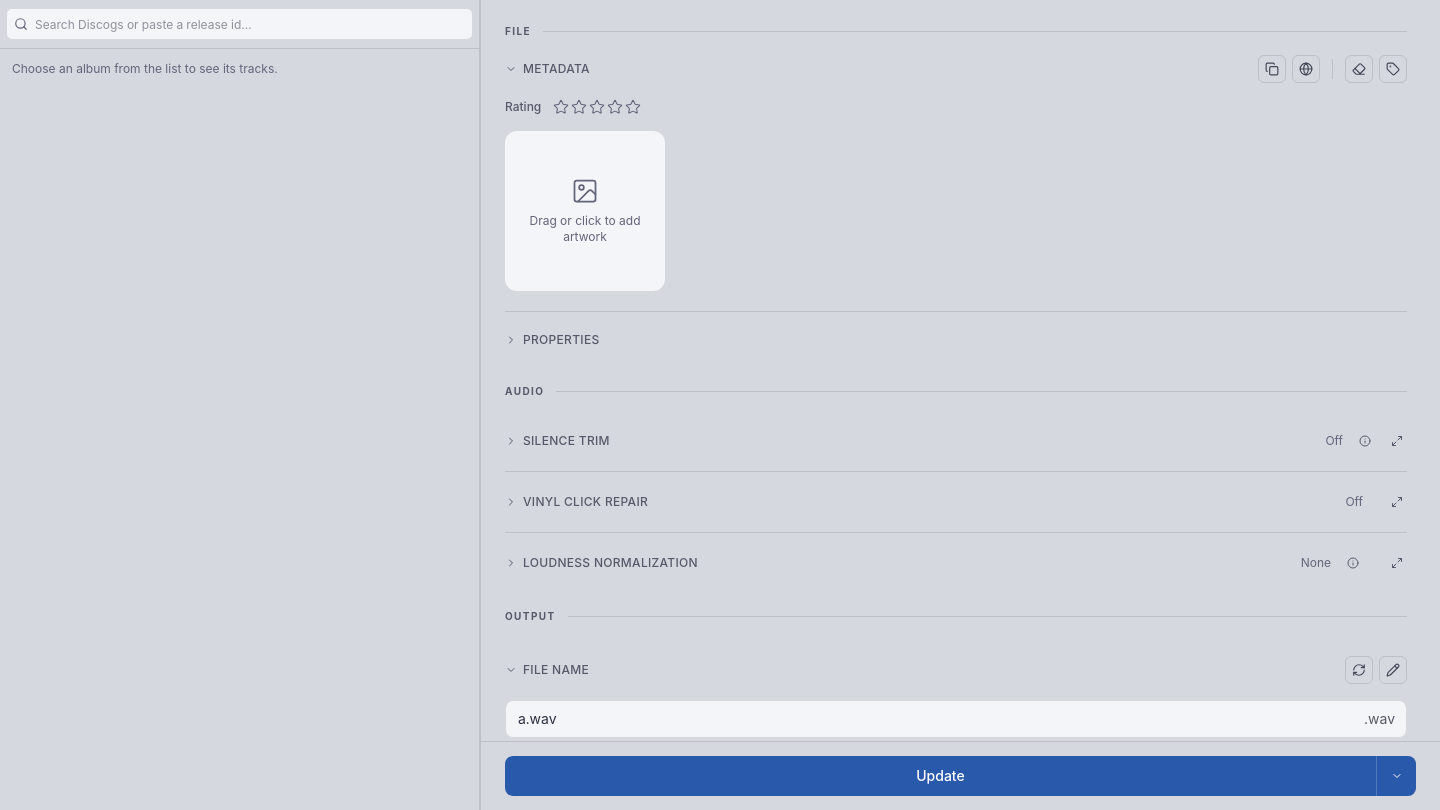
it: Editor properties panel › omits the bit-depth row when the probe could not read one
The image size is (1440, 810).
Step 1. Click the button "Properties" → point(561, 340), box [505,326,1407,354]
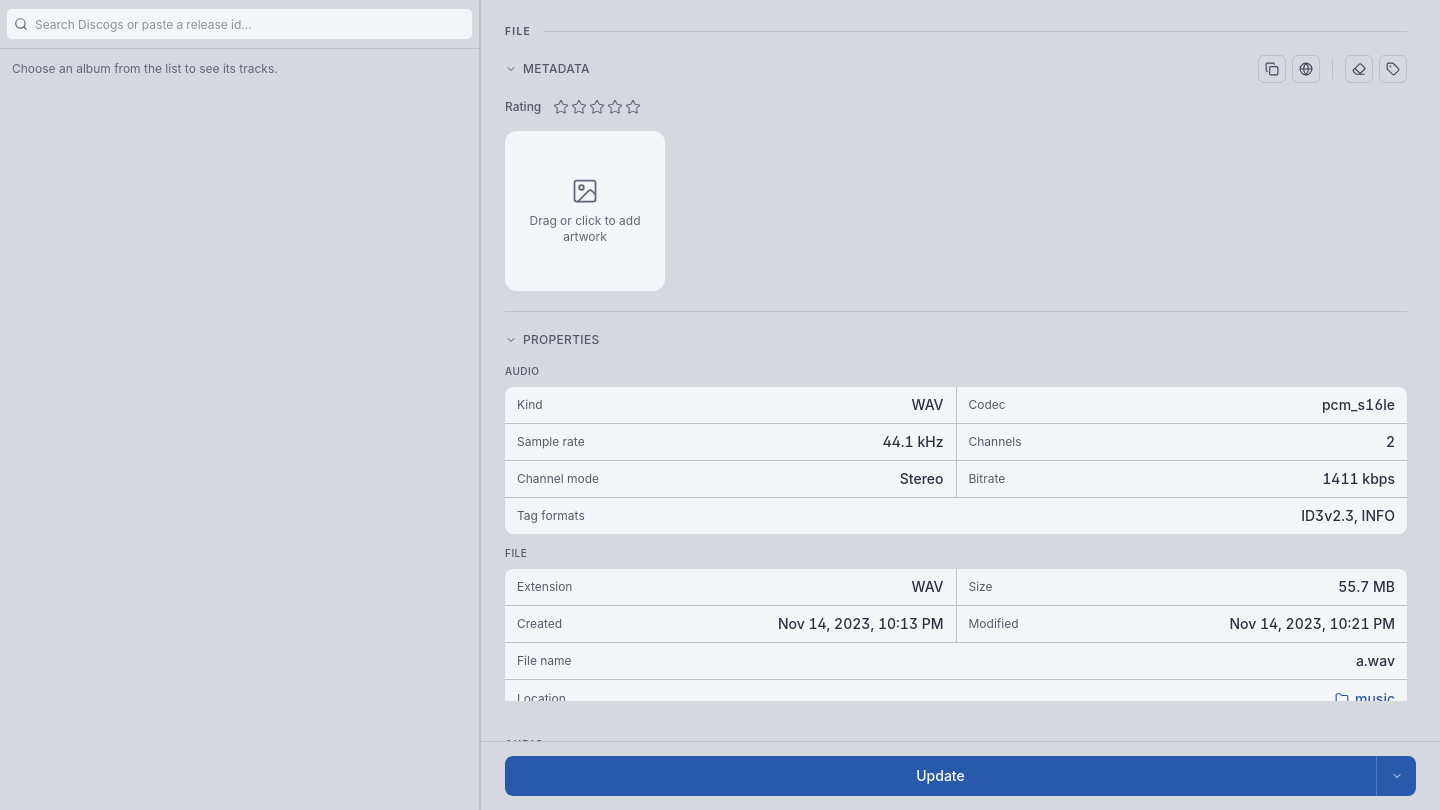
Now the element with test id "property-sampleRate" is shown, box [505,424,956,460]
